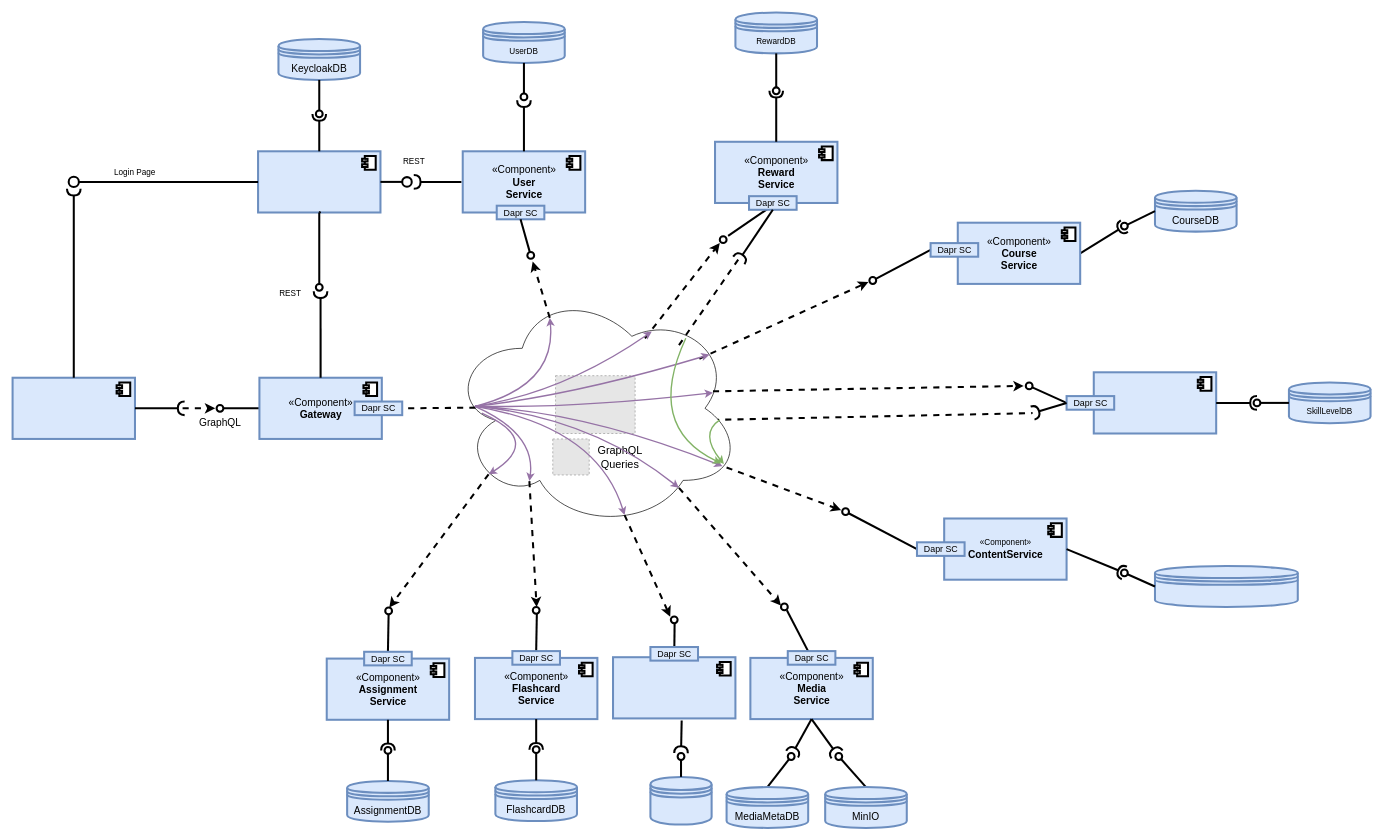
This 1383x840 diagram has some shape labels left out. Grey dashed boxes stand in for pictures. The shapes that lost their labels are listed below. From the top down, each one's centre as x and y in pixels, then its label:
point (319, 181): «Component» KeyCloak
point (73, 408): «Component» Frontend
point (1154, 402): «Component» SkillLevel Service
point (1226, 586): ContentDB
point (674, 687): «Component» QuizService
point (680, 800): QuizDB
